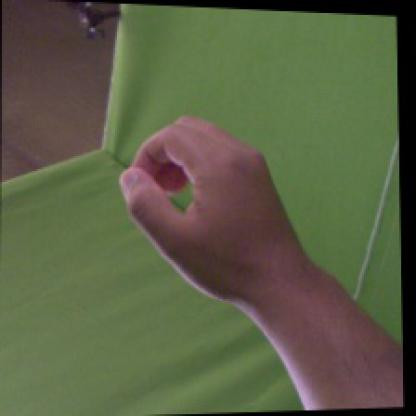Hand: (122, 113, 294, 306)
